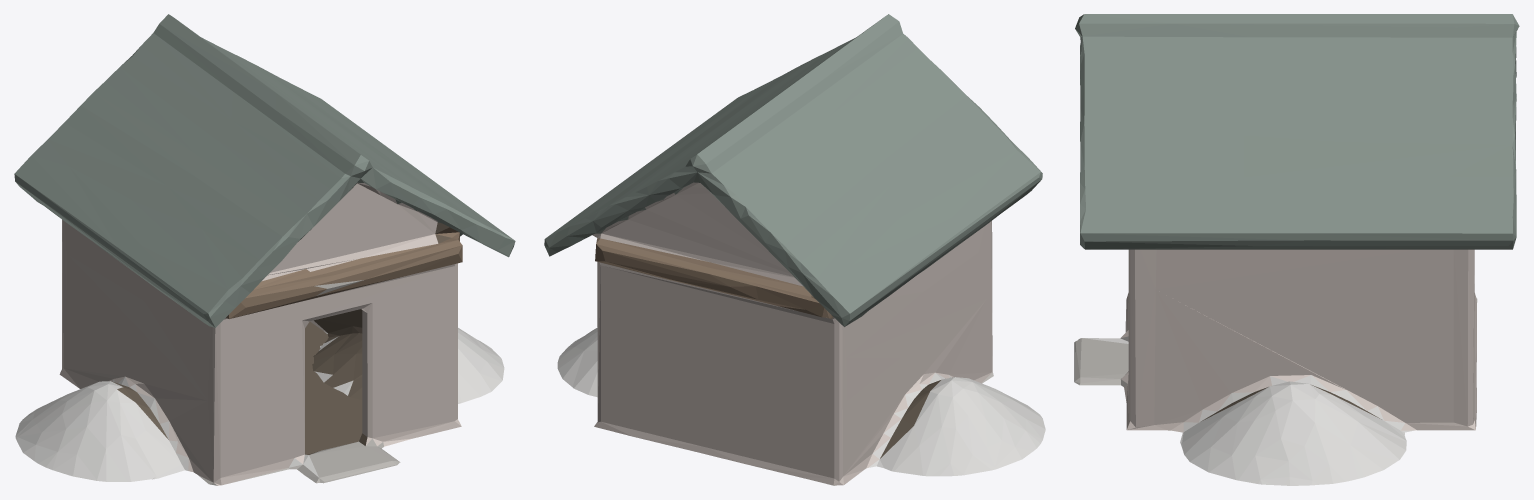
The picture shows the model from 3 angles, left to right: view 1: azimuth 30°, elevation 25°; view 2: azimuth 150°, elevation 25°; view 3: azimuth 270°, elevation 25°; orthographic projection. The views are drawn at different scales.
Visible parts, largest first — view 1: geometry_0; view 2: geometry_0; view 3: geometry_0.
Boxes of the visible parts, bbox=[...] form: geometry_0: bbox=[14, 14, 515, 485]; geometry_0: bbox=[544, 14, 1045, 485]; geometry_0: bbox=[1074, 14, 1519, 485].
Size of the model in its own units: 0.9177 by 0.6026 by 0.6927.
